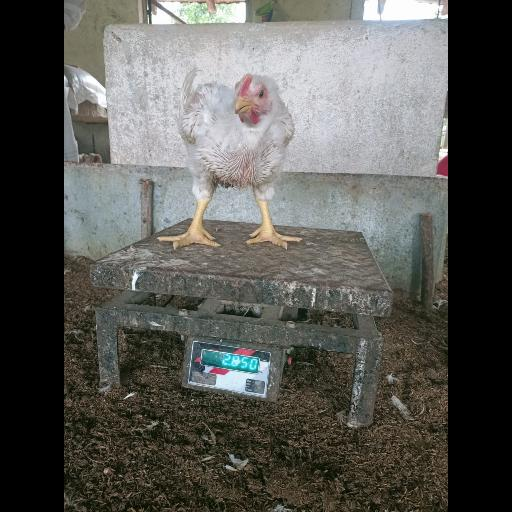chick: (159, 65, 304, 250)
